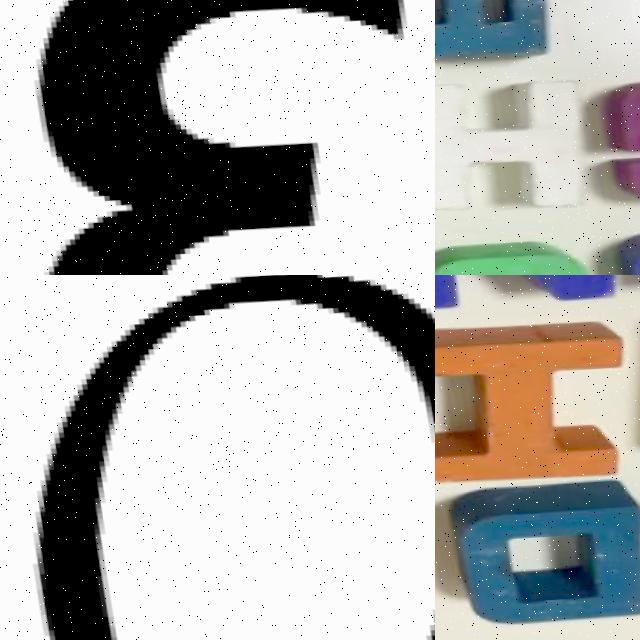3: (0, 0, 435, 275)
C: (435, 241, 591, 275)
D: (435, 476, 640, 628)
H: (435, 70, 589, 216)
I: (435, 321, 627, 488)
M: (435, 0, 556, 64)
O: (22, 275, 435, 640)
